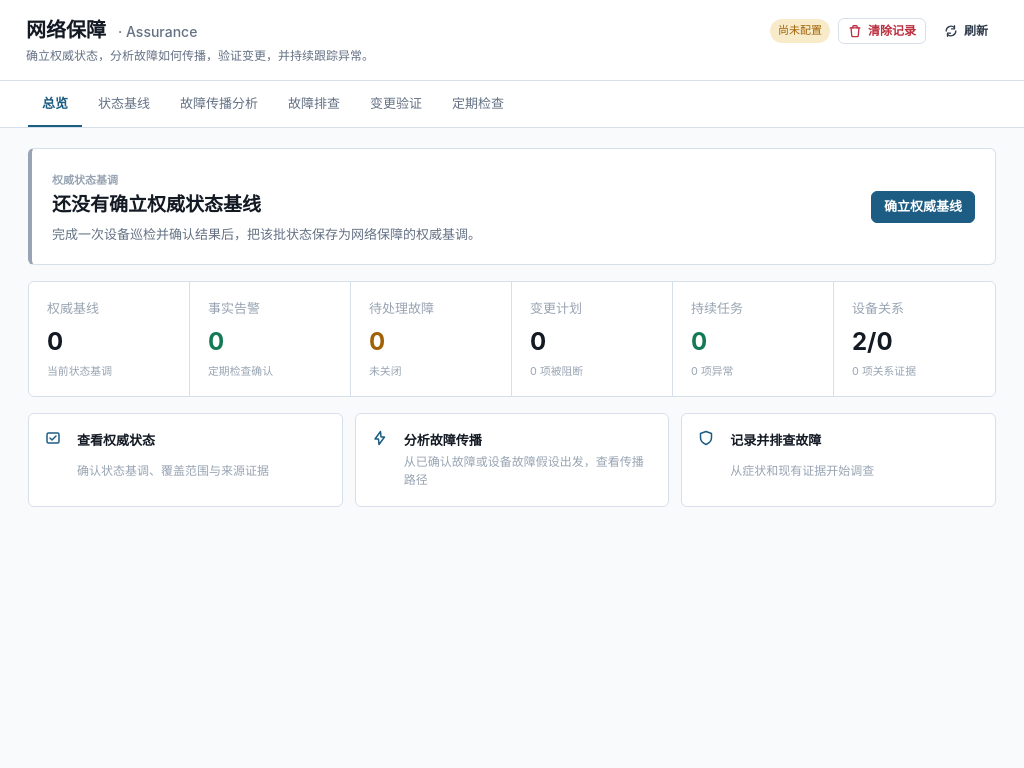
Test: Network Assurance user flow › treats state baseline as authority establishment without a comparison workflow
Expected: the heading "还没有确立权威状态基线" is shown, [52,193,261,216]
Click the tab "状态基线" at point(124, 104), box [84,81,164,127]
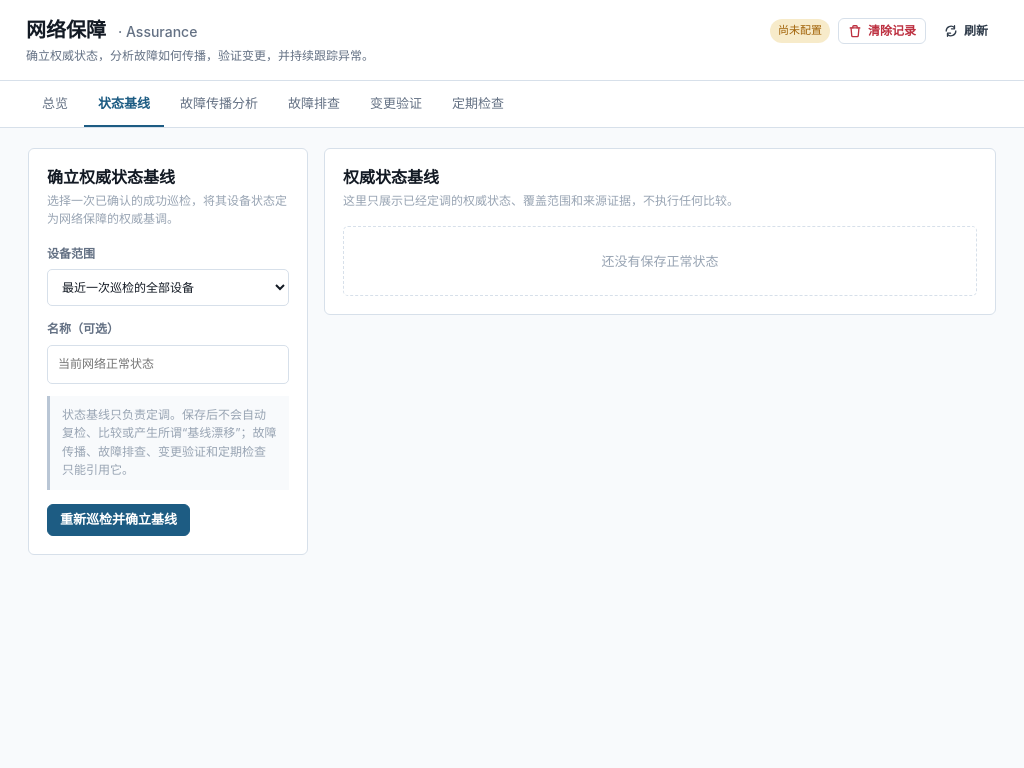
Expected: the heading "确立权威状态基线" is shown, [47,167,175,187]
Now the text "状态基线只负责定调。保存后不会自动复检、比较或产生所谓“基线漂移”；故障传播、故障排查、变更验证和定期检查只能引用它。" is shown, box [47,396,289,490]
Click the button "重新巡检并确立基线" at point(118, 520), box [47,504,190,536]
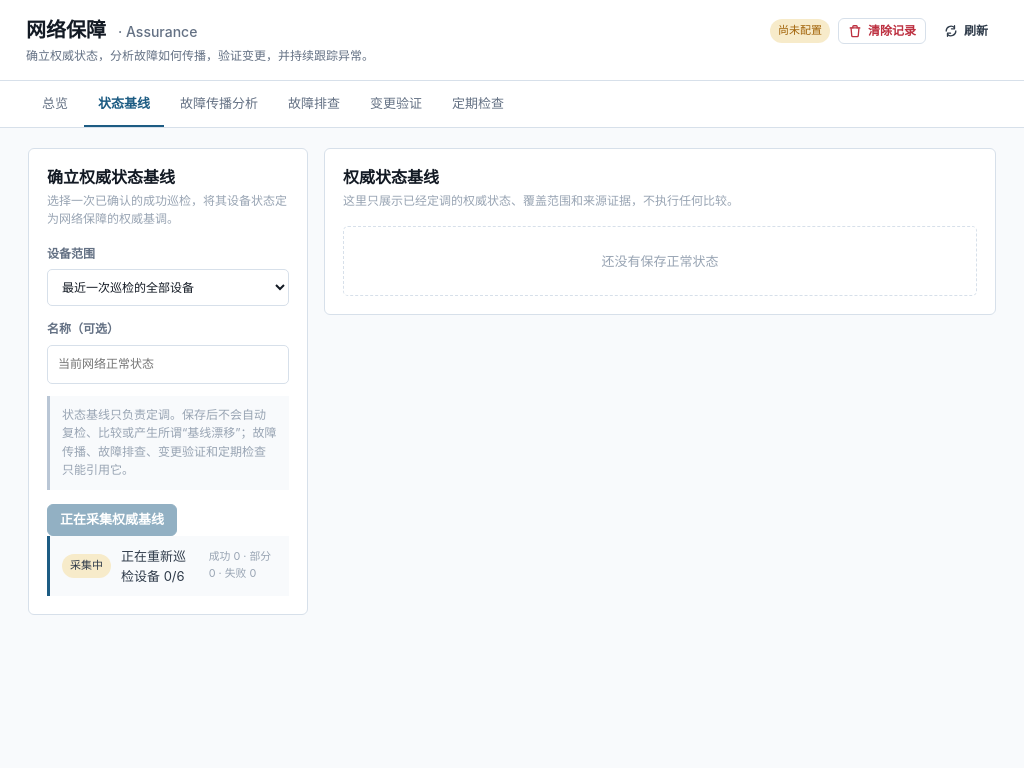
Now the text "正在重新巡检设备 0/6" is shown, box [121,548,186,584]
